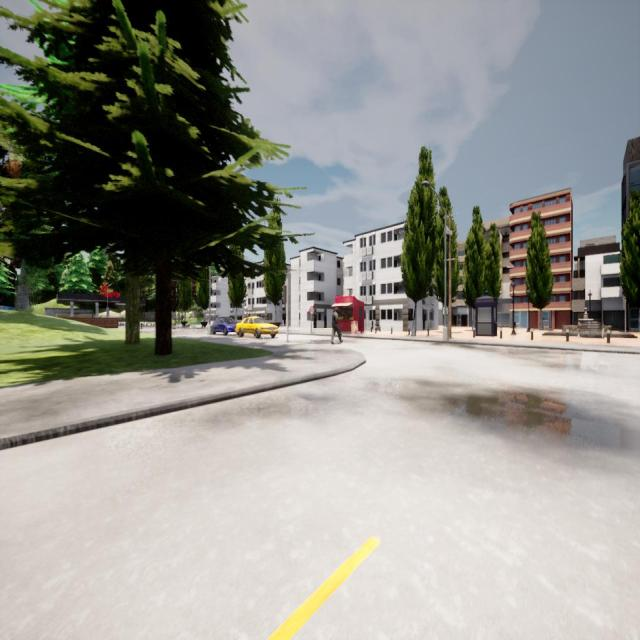Pedestrian: (331, 308, 342, 344)
Traffic_Signs: (310, 307, 314, 315)
Vehicle: (237, 317, 280, 338), (210, 315, 235, 335)
